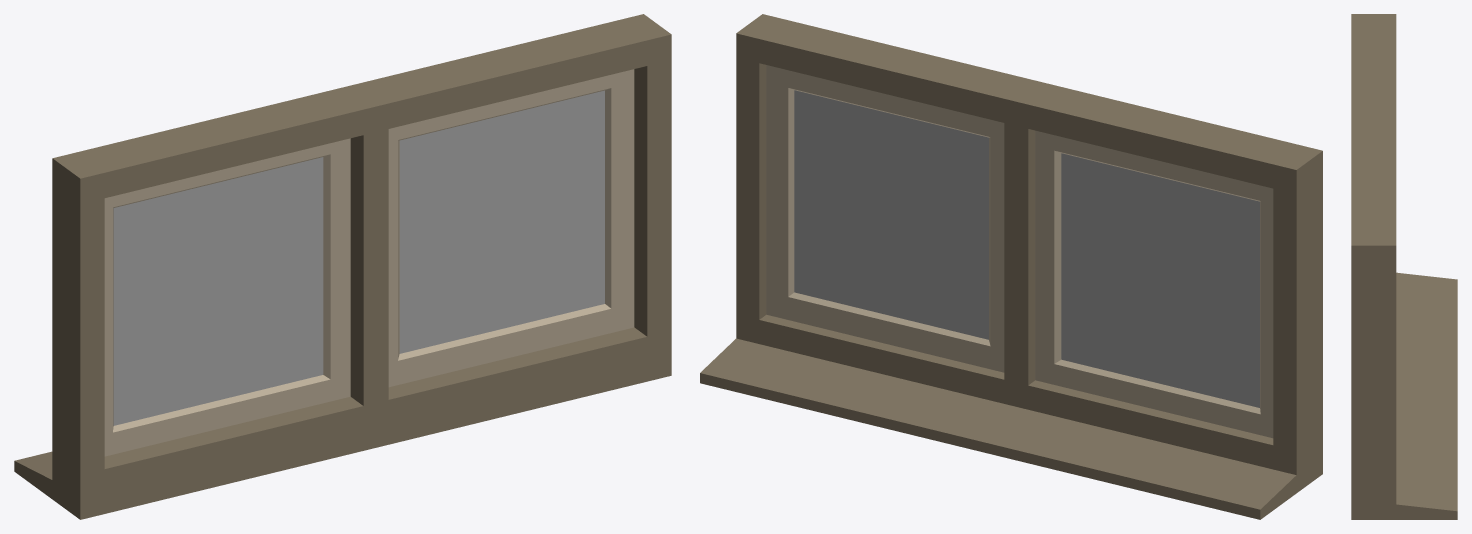
Rendered from window.fbx.
3 views of the same model, side by side, from view 1: azimuth 30°, elevation 25°; view 2: azimuth 150°, elevation 25°; view 3: azimuth 270°, elevation 25° (orthographic). The views are drawn at different scales.
Visible parts, largest first — view 1: window; view 2: window; view 3: window.
Part boxes in pixels (bbox=[...]): window: bbox=[14, 14, 671, 519]; window: bbox=[700, 14, 1322, 519]; window: bbox=[1351, 14, 1457, 519].
Size of the model in its own units: 279 by 154 by 53.95.
